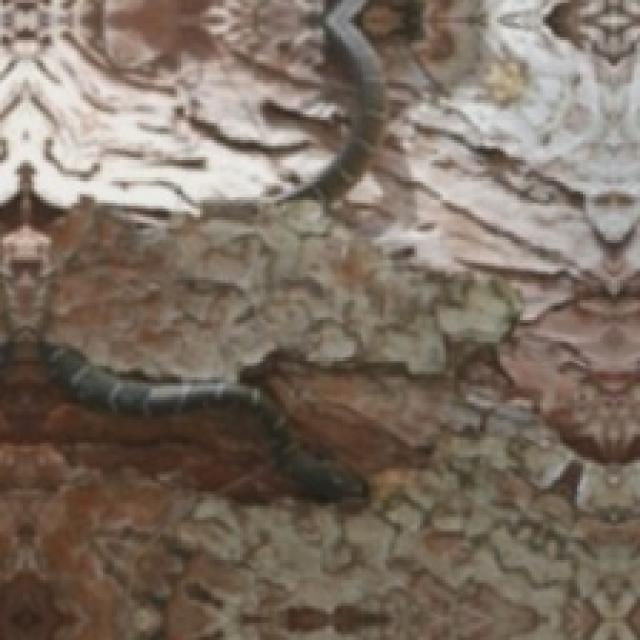reddish rat snake: (0, 163, 366, 497), (277, 0, 383, 203)
